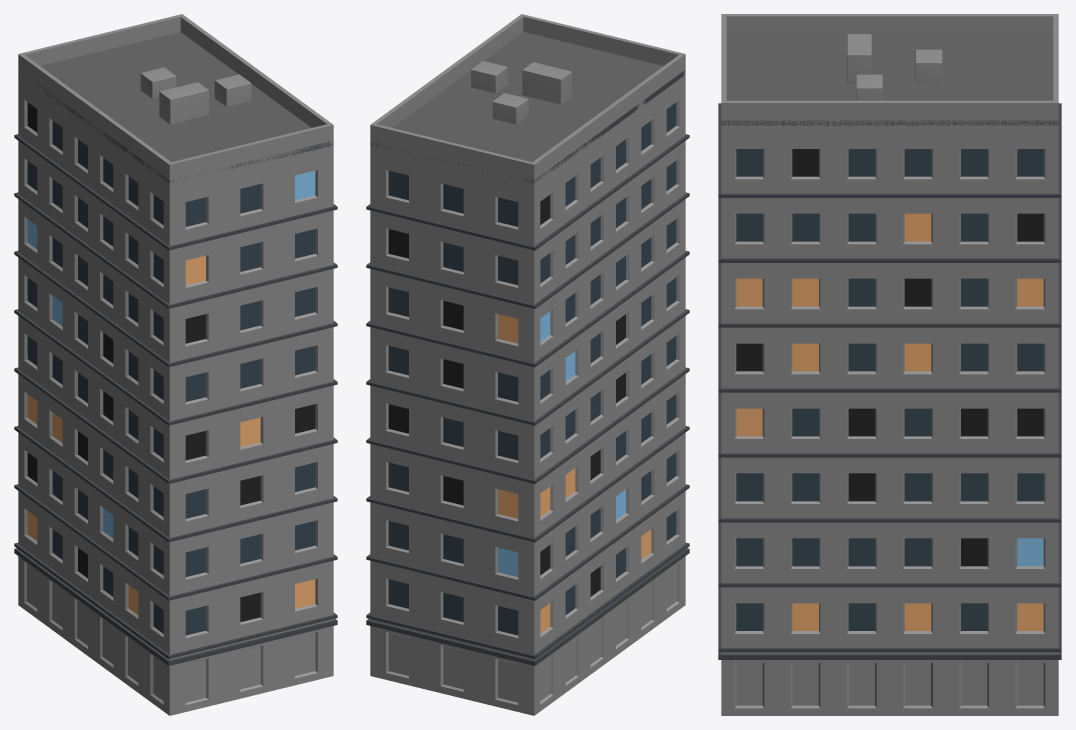
The model's file is Building_Block_C.fbx.
3 views of the same model, side by side, from view 1: azimuth 30°, elevation 25°; view 2: azimuth 150°, elevation 25°; view 3: azimuth 270°, elevation 25° (orthographic). The views are drawn at different scales.
Parts seen in each view (by area): view 1: Building_Block_C_LOD0; view 2: Building_Block_C_LOD0; view 3: Building_Block_C_LOD0.
Part boxes in pixels (left/top/right/bottom): Building_Block_C_LOD0: left=14, top=14, right=337, bottom=715; Building_Block_C_LOD0: left=366, top=14, right=689, bottom=715; Building_Block_C_LOD0: left=718, top=14, right=1061, bottom=715.
Size of what is drawn, in the model's own units: 10.3 by 32.69 by 16.3.
